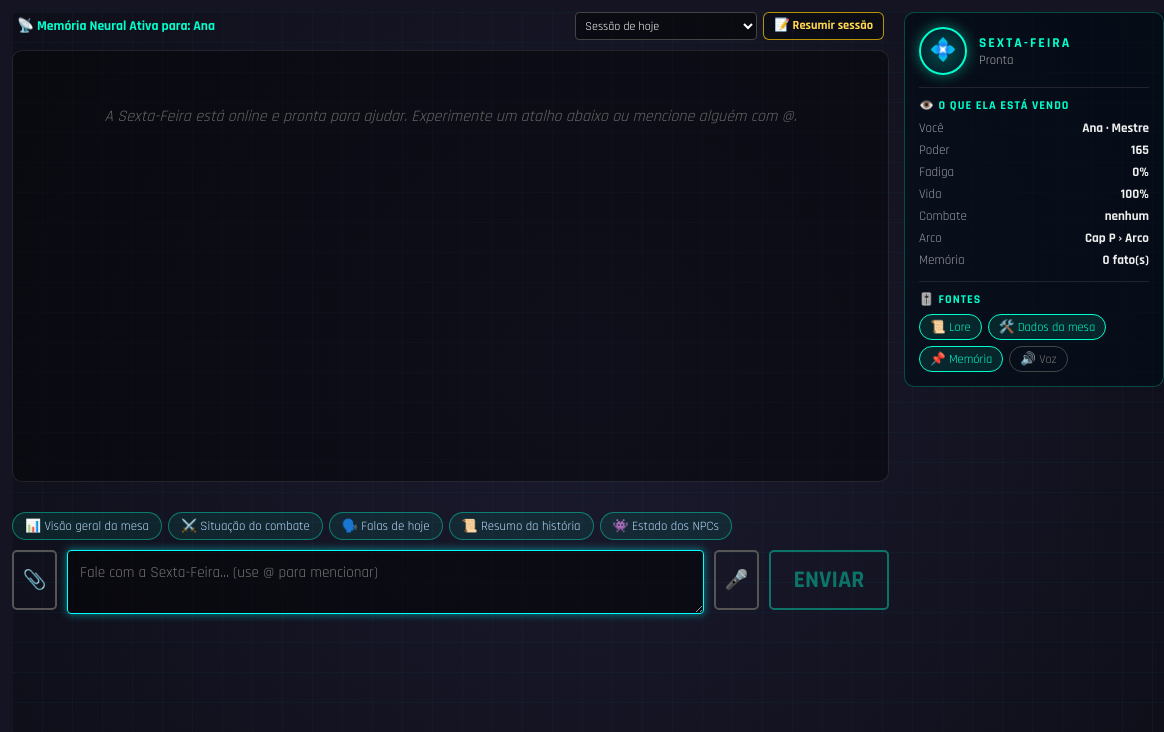
Test case: CartaoProposta - Mestre › mostra Aplicar e nao mostra Enviar para aprovacao
Type "crie algo" into the text box named "Mensagem para a Sexta-Feira" at (386, 582), box [67,550,704,614]
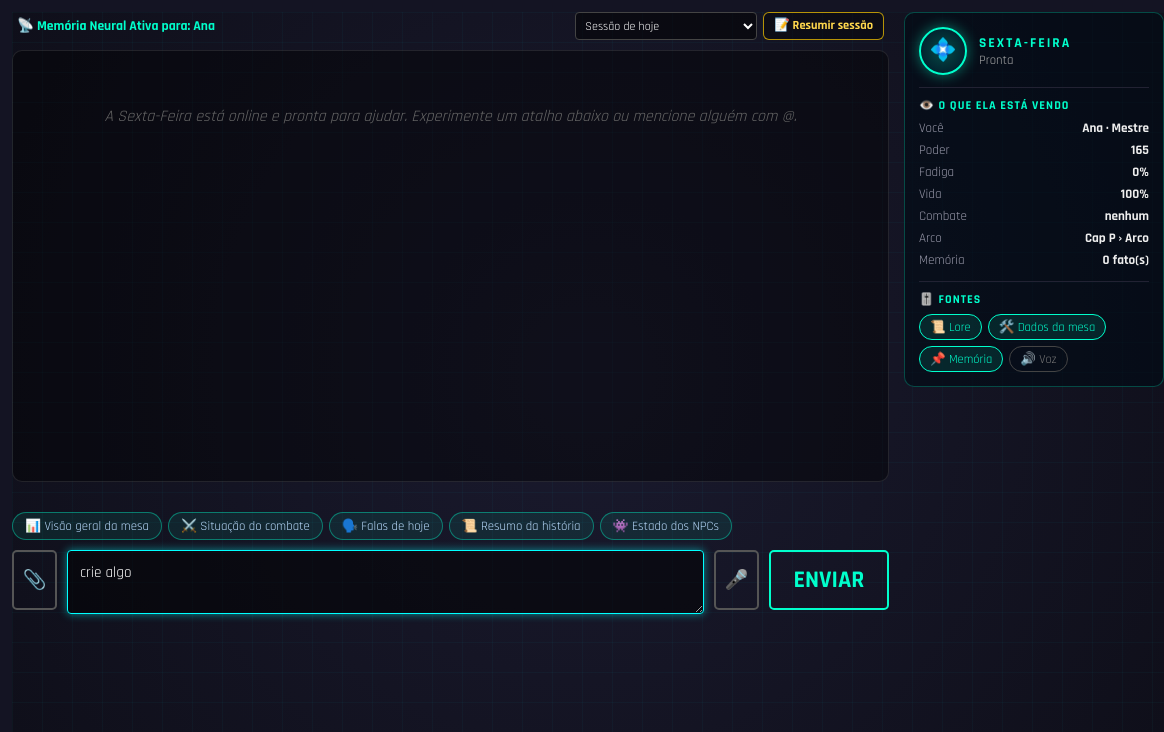
Click the button "ENVIAR" at (829, 580), box [769,550,889,610]
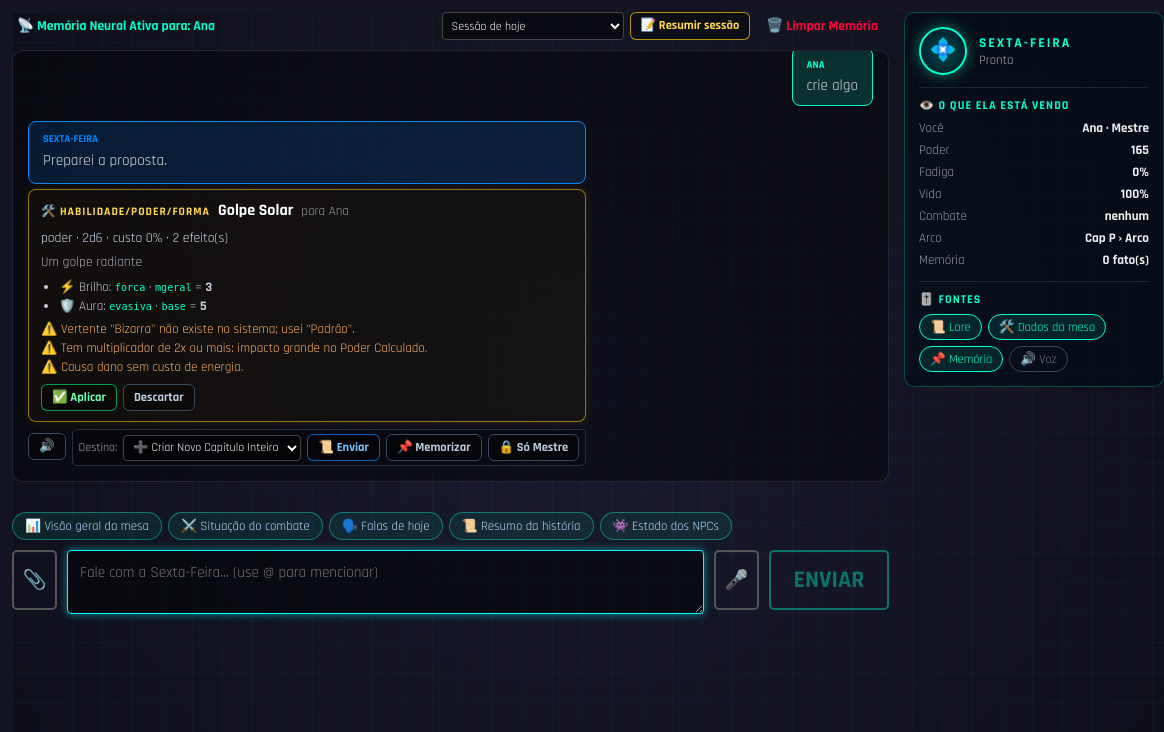
Now the element with class "sexta-criacao" is shown, box [28,189,586,422]
Now the button "✅ Aplicar" is shown, box [41,384,117,411]
